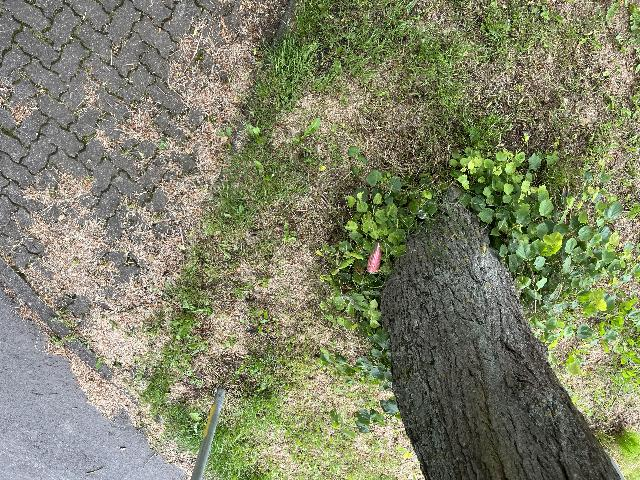can: (367, 241, 382, 276), (417, 190, 430, 221)
plastic_bottle: (332, 294, 369, 311)
